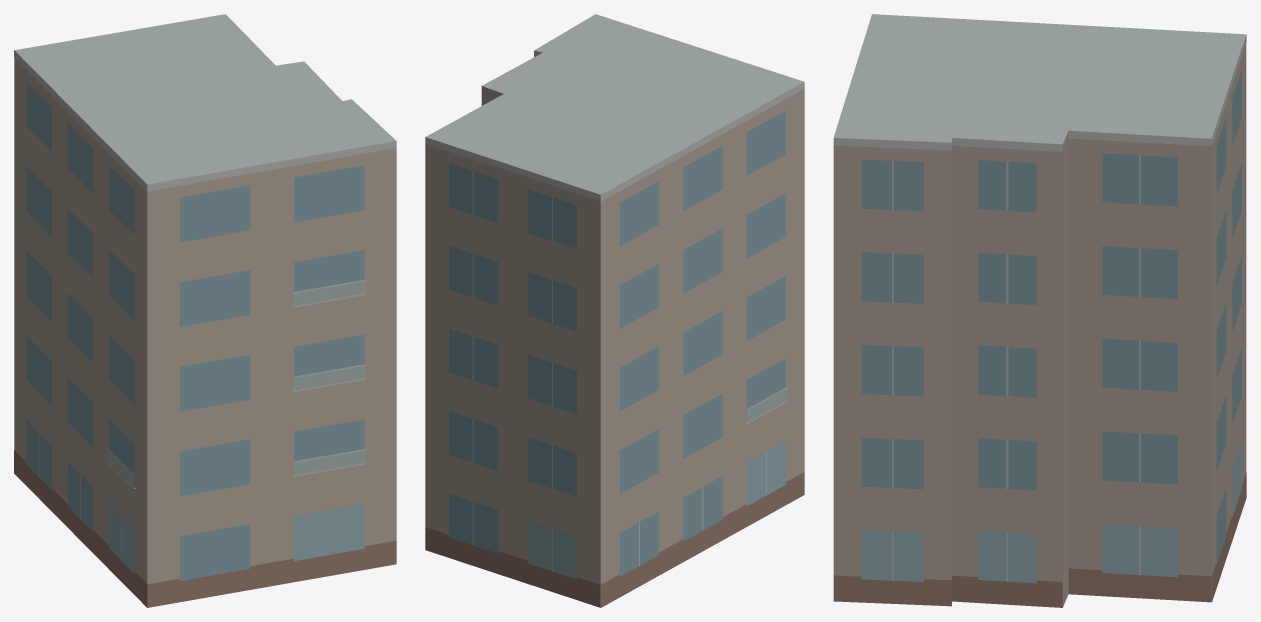
Rendered from survey-upis-32532519.glb.
The picture shows the model from 3 angles, left to right: view 1: azimuth 30°, elevation 25°; view 2: azimuth 150°, elevation 25°; view 3: azimuth 270°, elevation 25°; orthographic projection. The views are drawn at different scales.
Visible parts, largest first — view 1: survey-upis-32532519.tmp; view 2: survey-upis-32532519.tmp; view 3: survey-upis-32532519.tmp.
Part boxes in pixels (bbox=[...]): survey-upis-32532519.tmp: bbox=[14, 14, 396, 607]; survey-upis-32532519.tmp: bbox=[425, 14, 804, 607]; survey-upis-32532519.tmp: bbox=[833, 14, 1246, 607].
Bounding box in the file's own units: 8.85 × 14.65 × 11.84.
